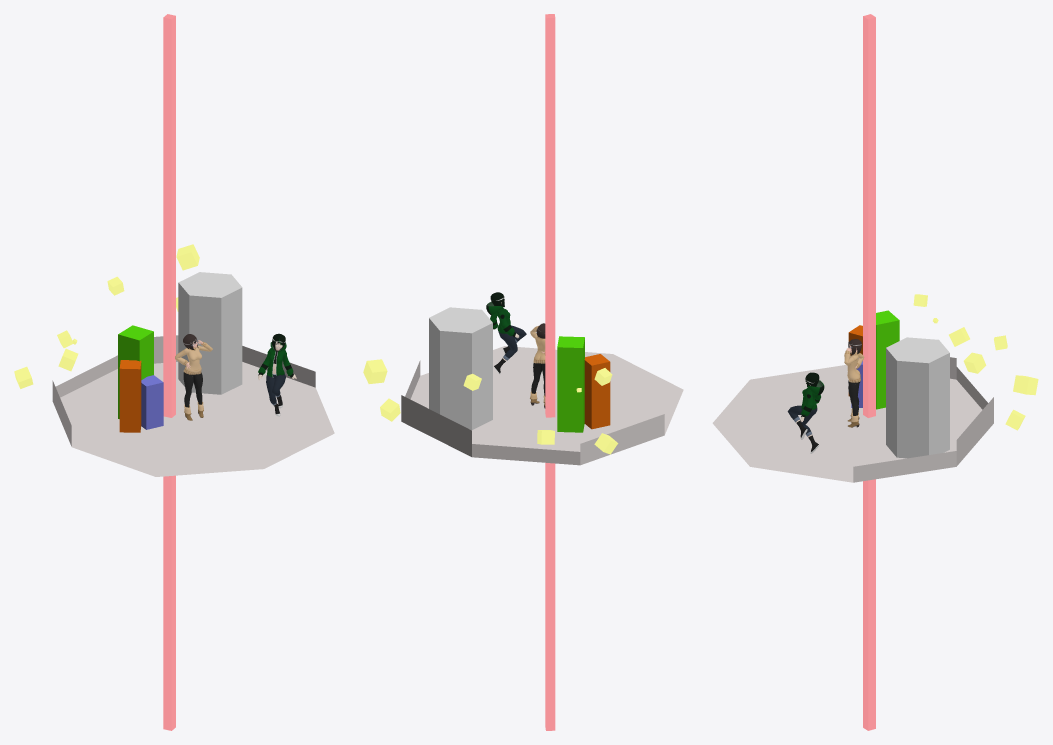
The model's file is polly_alt.glb.
3 renders of one model, left to right at view 1: azimuth 30°, elevation 25°; view 2: azimuth 150°, elevation 25°; view 3: azimuth 270°, elevation 25°, orthographic.
Visible parts, largest first — view 1: Plane, Cube.003, Cylinder, Cube, Cube.002, Serena_Skeleton, GLTF_created_0, Cube.001; view 2: Plane, Cube.003, Cylinder, Cube.002, Cube, Serena_Skeleton, GLTF_created_0; view 3: Plane, Cube.003, Cylinder, Cube.002, Serena_Skeleton, GLTF_created_0.
Boxes of the visible parts, <box> form: Plane: <box>52,335,334,476</box>; Cube.003: <box>163,14,175,730</box>; Cylinder: <box>178,272,242,394</box>; Cube: <box>119,360,141,432</box>; Cube.002: <box>118,325,153,418</box>; Serena_Skeleton: <box>258,333,296,416</box>; GLTF_created_0: <box>175,334,212,420</box>; Cube.001: <box>141,375,163,429</box>; Plane: <box>401,346,683,465</box>; Cube.003: <box>545,14,555,730</box>; Cylinder: <box>429,307,492,430</box>; Cube.002: <box>557,336,584,432</box>; Cube: <box>584,354,610,429</box>; Serena_Skeleton: <box>486,292,526,374</box>; GLTF_created_0: <box>530,323,545,408</box>; Plane: <box>712,357,993,482</box>; Cube.003: <box>863,14,875,730</box>; Cylinder: <box>886,337,949,458</box>; Cube.002: <box>876,310,899,409</box>; Serena_Skeleton: <box>787,372,824,453</box>; GLTF_created_0: <box>844,339,864,427</box>.
Size of the model in its own units: 8.78 by 24.14 by 10.03.
Materials: 18 (11 with a texture image).
